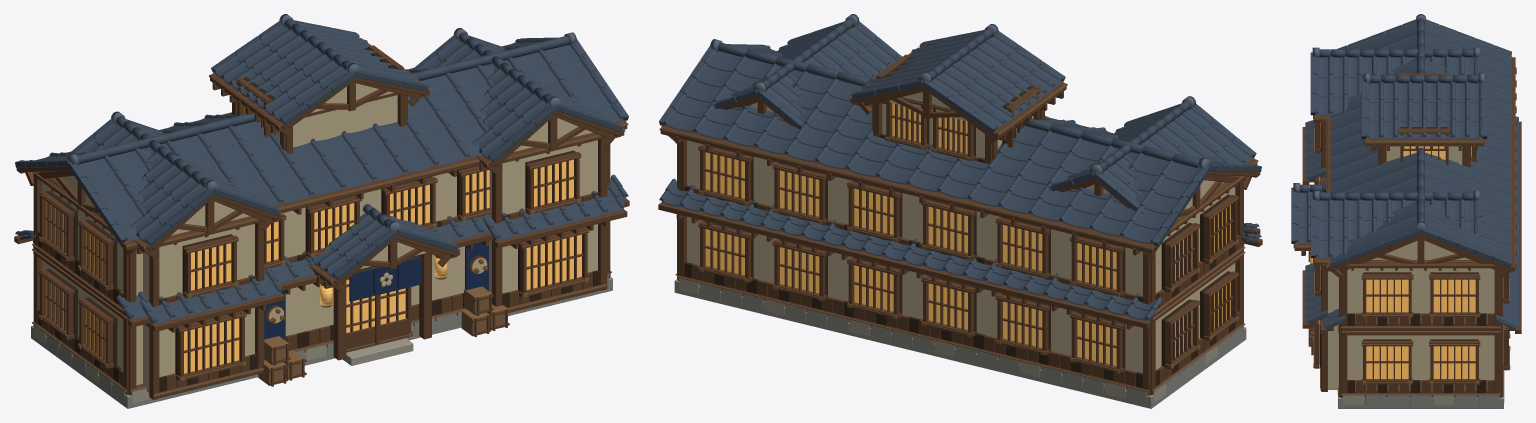
3 renders of one model, left to right at view 1: azimuth 30°, elevation 25°; view 2: azimuth 150°, elevation 25°; view 3: azimuth 270°, elevation 25°, orthographic. The views are drawn at different scales.
Parts seen in each view (by area): view 1: compact_finance_2_geometry, compact_finance_2_geometry ceramic; view 2: compact_finance_2_geometry, compact_finance_2_geometry ceramic; view 3: compact_finance_2_geometry ceramic, compact_finance_2_geometry.
Part boxes in pixels (bbox=[...]): compact_finance_2_geometry: bbox=[14, 27, 629, 408]; compact_finance_2_geometry ceramic: bbox=[15, 14, 628, 324]; compact_finance_2_geometry: bbox=[658, 27, 1262, 408]; compact_finance_2_geometry ceramic: bbox=[659, 14, 1261, 321]; compact_finance_2_geometry ceramic: bbox=[1291, 14, 1518, 329]; compact_finance_2_geometry: bbox=[1293, 57, 1521, 408].
Bounding box in the file's own units: 2.22 × 1.14 × 1.02.
